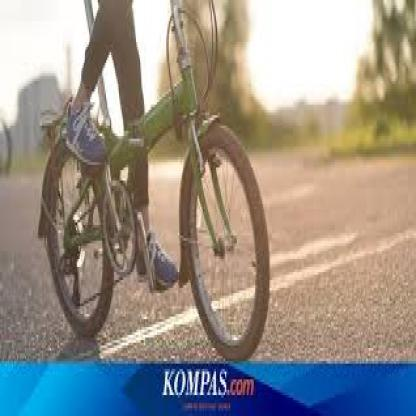Bike: (38, 90, 273, 364)
